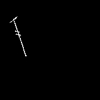treble_crochet: (13, 17, 25, 55)
